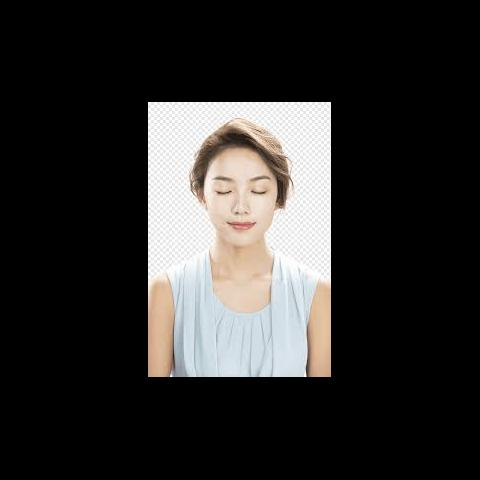closed: (207, 171, 278, 203)
